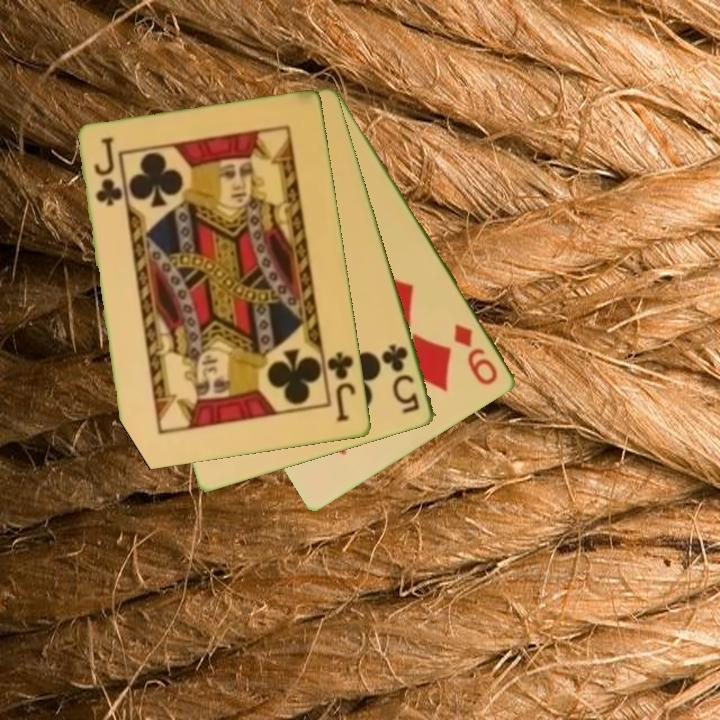5c: (378, 340, 423, 417)
9d: (450, 320, 502, 389)
Jc: (324, 348, 359, 425), (91, 134, 125, 210)
